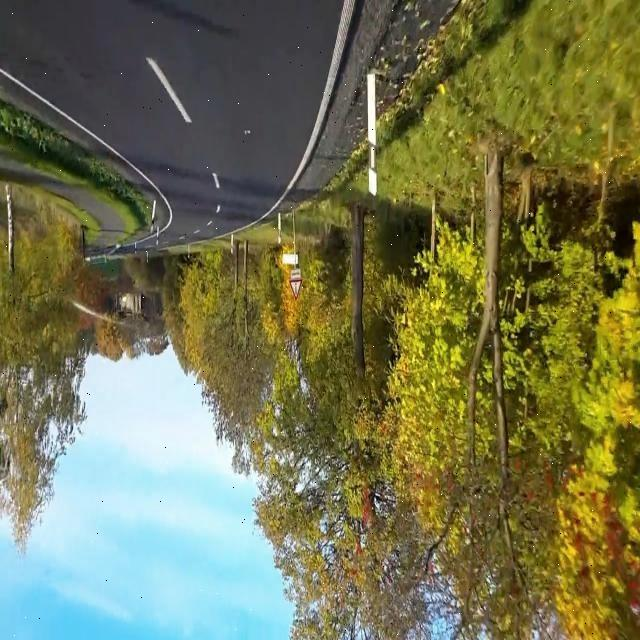lane: (1, 67, 174, 231), (242, 0, 356, 229), (146, 58, 191, 122), (212, 173, 219, 189)
road: (0, 1, 342, 245)
